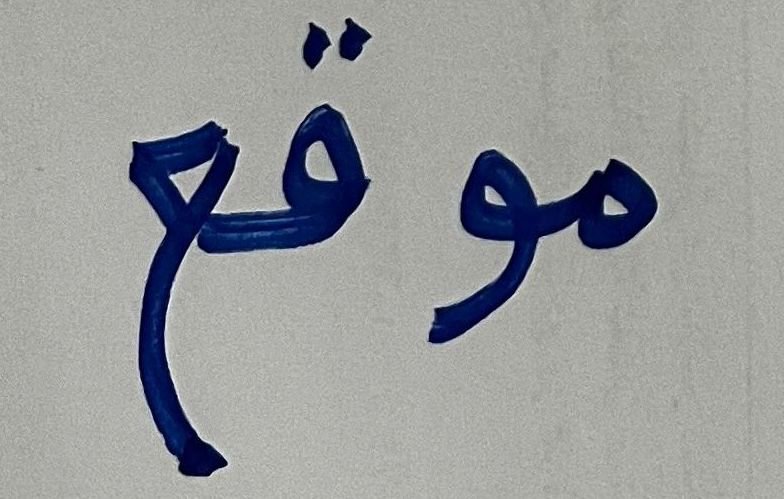ain: (80, 75, 257, 477)
meem: (564, 120, 695, 294)
qaf: (261, 9, 400, 281)
waw: (421, 117, 559, 385)
